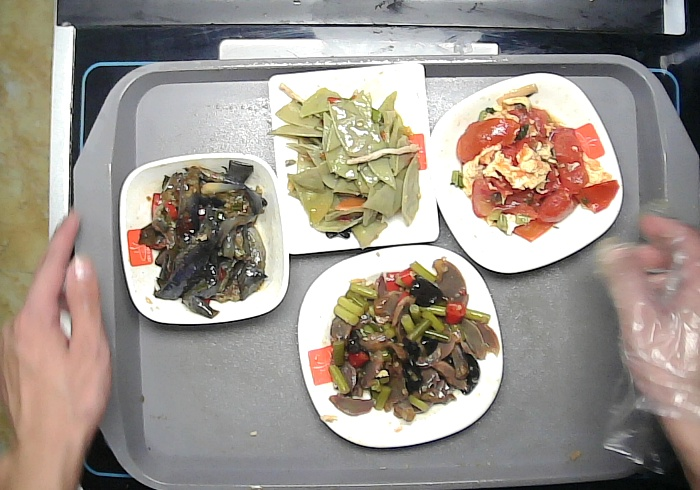SHKJ-Bai_Se_Cai_Die: (426, 72, 624, 276)
SHKJ-Bai_Se_Si_Fang_Cai_Die: (297, 244, 504, 450)
SHKJ-Bai_Se_Xiao_Fang_Die: (118, 151, 290, 324)
SHKJ-Si_Fang_Min: (267, 63, 441, 254)
